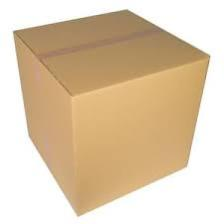cardboard: (7, 7, 204, 223)
